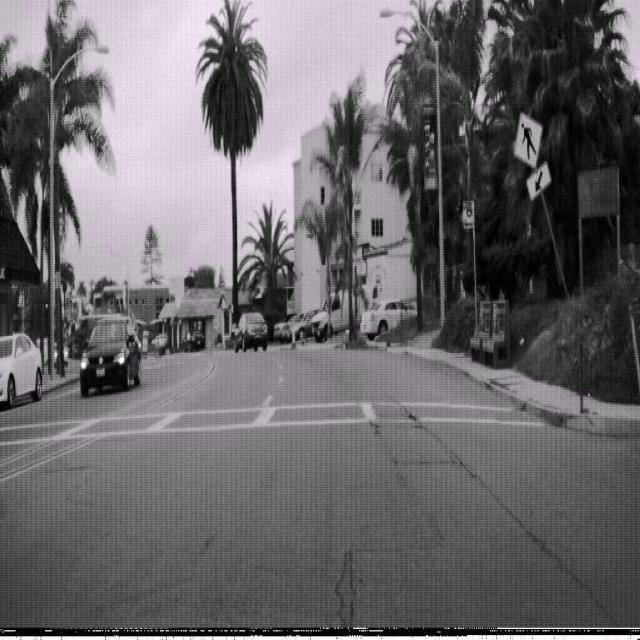pedestrianCrossing: (512, 110, 542, 170)
